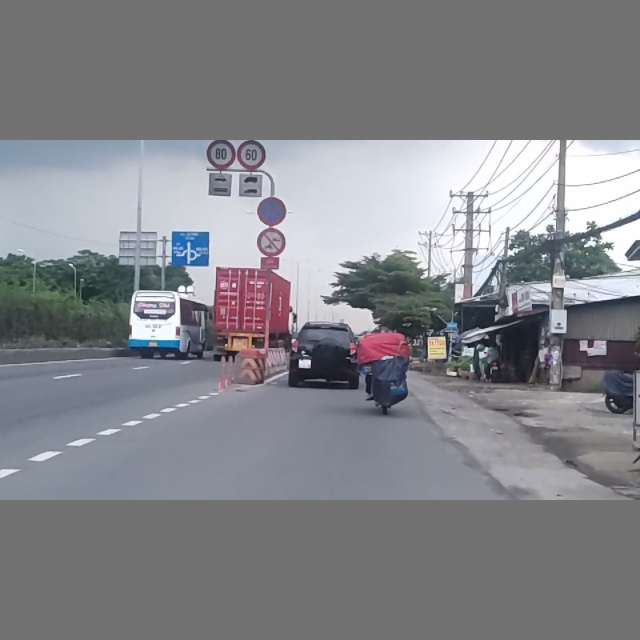P.111: (256, 227, 287, 256)
P.127*60: (237, 141, 267, 169)
P.127*80: (206, 141, 236, 169)
P.130: (256, 196, 287, 225)
